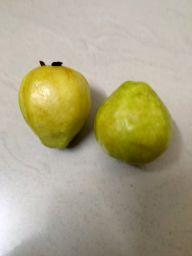guava: (96, 76, 174, 171), (17, 57, 93, 153)
